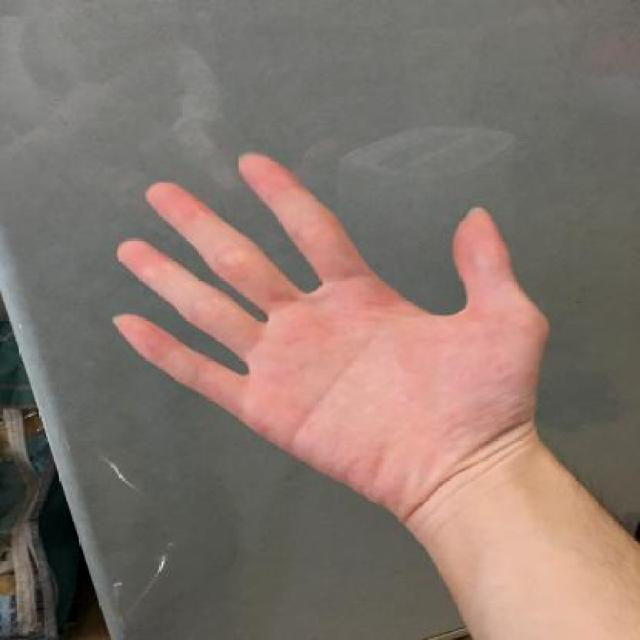no_glove: (90, 130, 568, 525)
